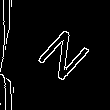N_SW: (22, 23, 88, 87)
